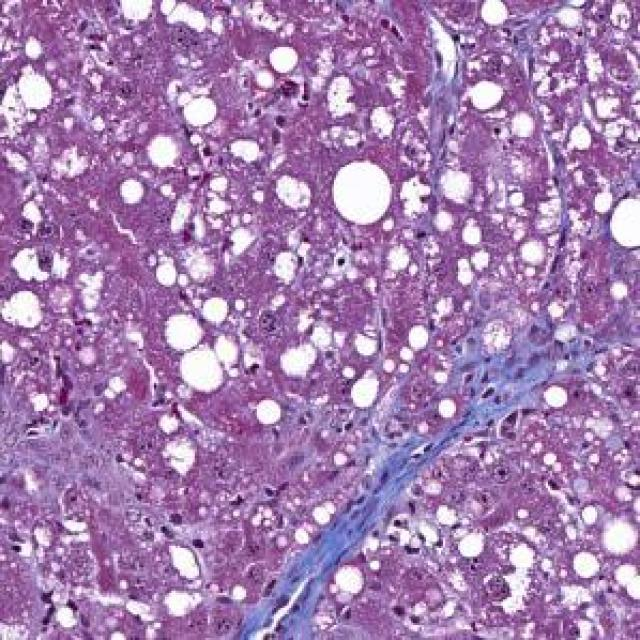fibrosis: (383, 315, 606, 473)
